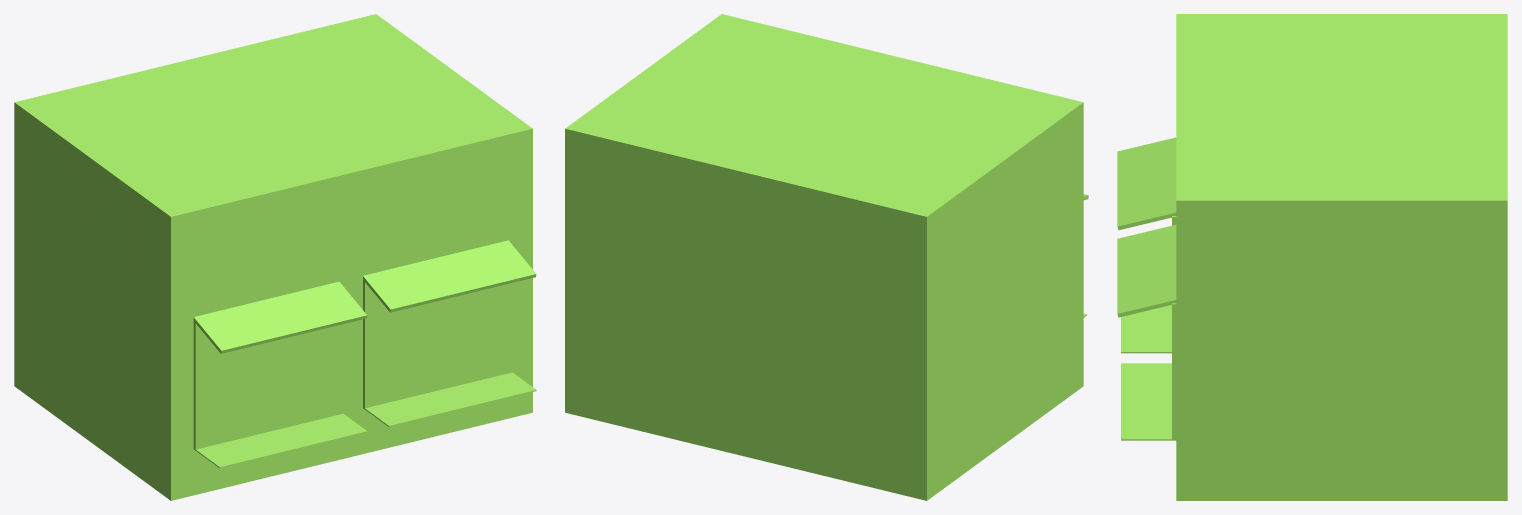
Rendered from unit_c.glb.
The picture shows the model from 3 angles, left to right: view 1: azimuth 30°, elevation 25°; view 2: azimuth 150°, elevation 25°; view 3: azimuth 270°, elevation 25°; orthographic projection. The views are drawn at different scales.
Parts seen in each view (by area): view 1: Mesh_0; view 2: Mesh_0; view 3: Mesh_0.
Boxes of the visible parts, x1,y1,x2,y2 form: Mesh_0: (14,14,536,500); Mesh_0: (565,14,1088,500); Mesh_0: (1117,14,1507,500).
Size of the model in its own units: 4 by 3 by 3.53.
